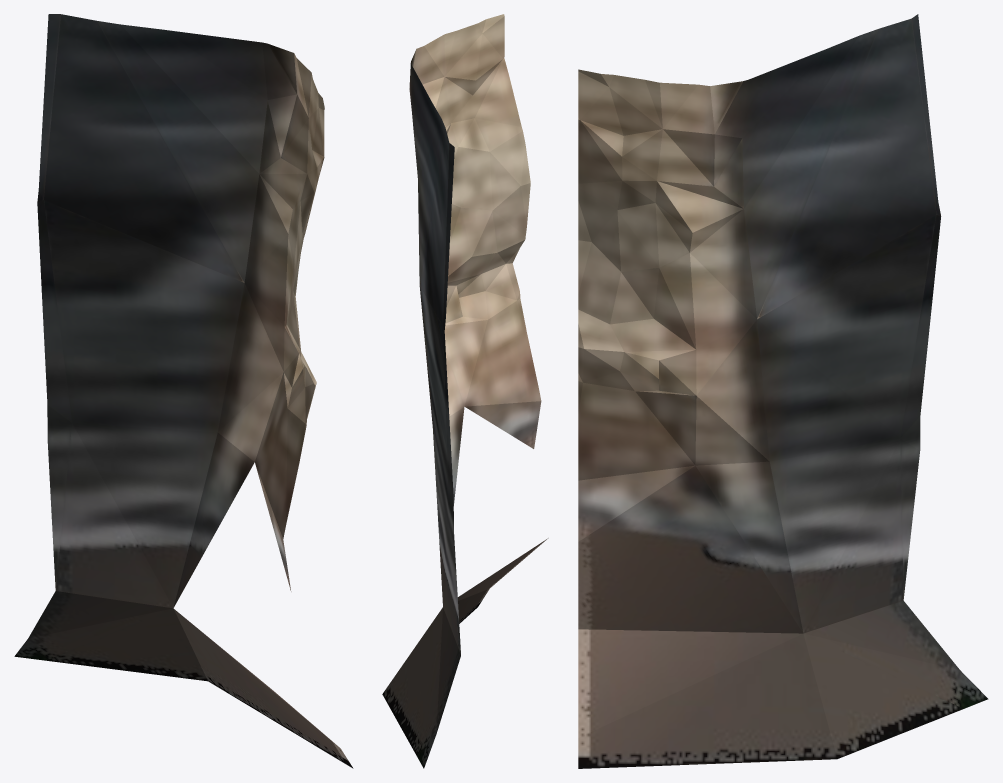
3 views of the same model, side by side, from view 1: azimuth 30°, elevation 25°; view 2: azimuth 150°, elevation 25°; view 3: azimuth 270°, elevation 25° (orthographic). The views are drawn at different scales.
Bounding box in the file's own units: 0.3925 × 1.67 × 0.909.
2 materials, 2 textured.
